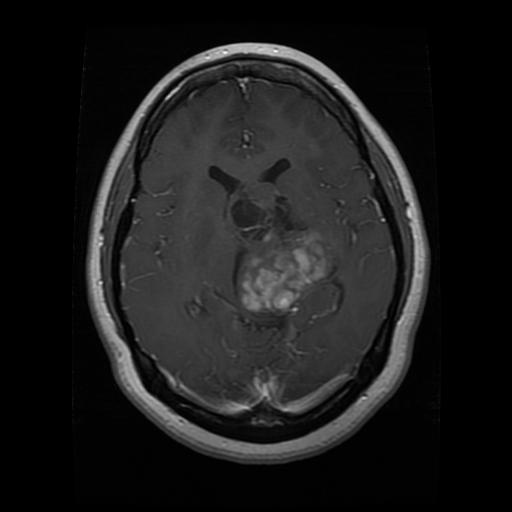Gliomia_tumour: (233, 223, 338, 313)
